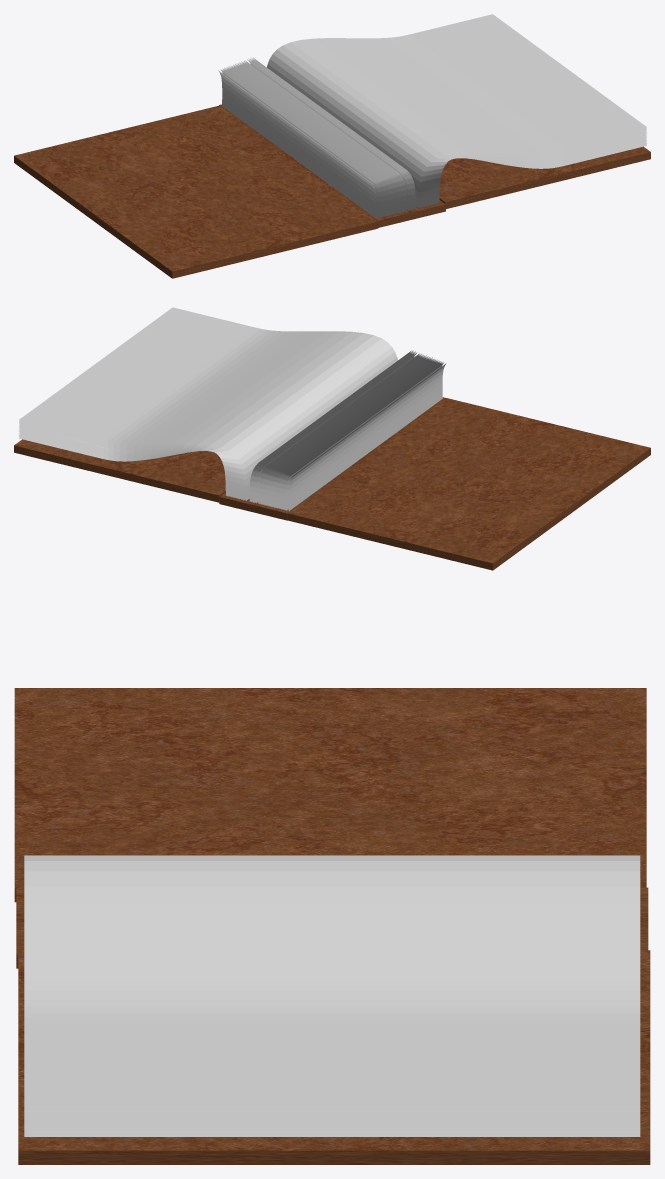
File: OpenBook.glb
3 renders of one model, top to bottom at view 1: azimuth 30°, elevation 25°; view 2: azimuth 150°, elevation 25°; view 3: azimuth 270°, elevation 25°, orthographic. The views are drawn at different scales.
Bounding box in the file's own units: 3.49 × 0.4359 × 2.01.
Materials: 2 (2 with a texture image).
